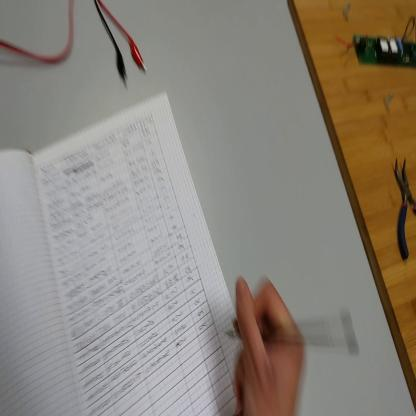hand: (232, 274, 307, 415)
register: (1, 86, 243, 416)
